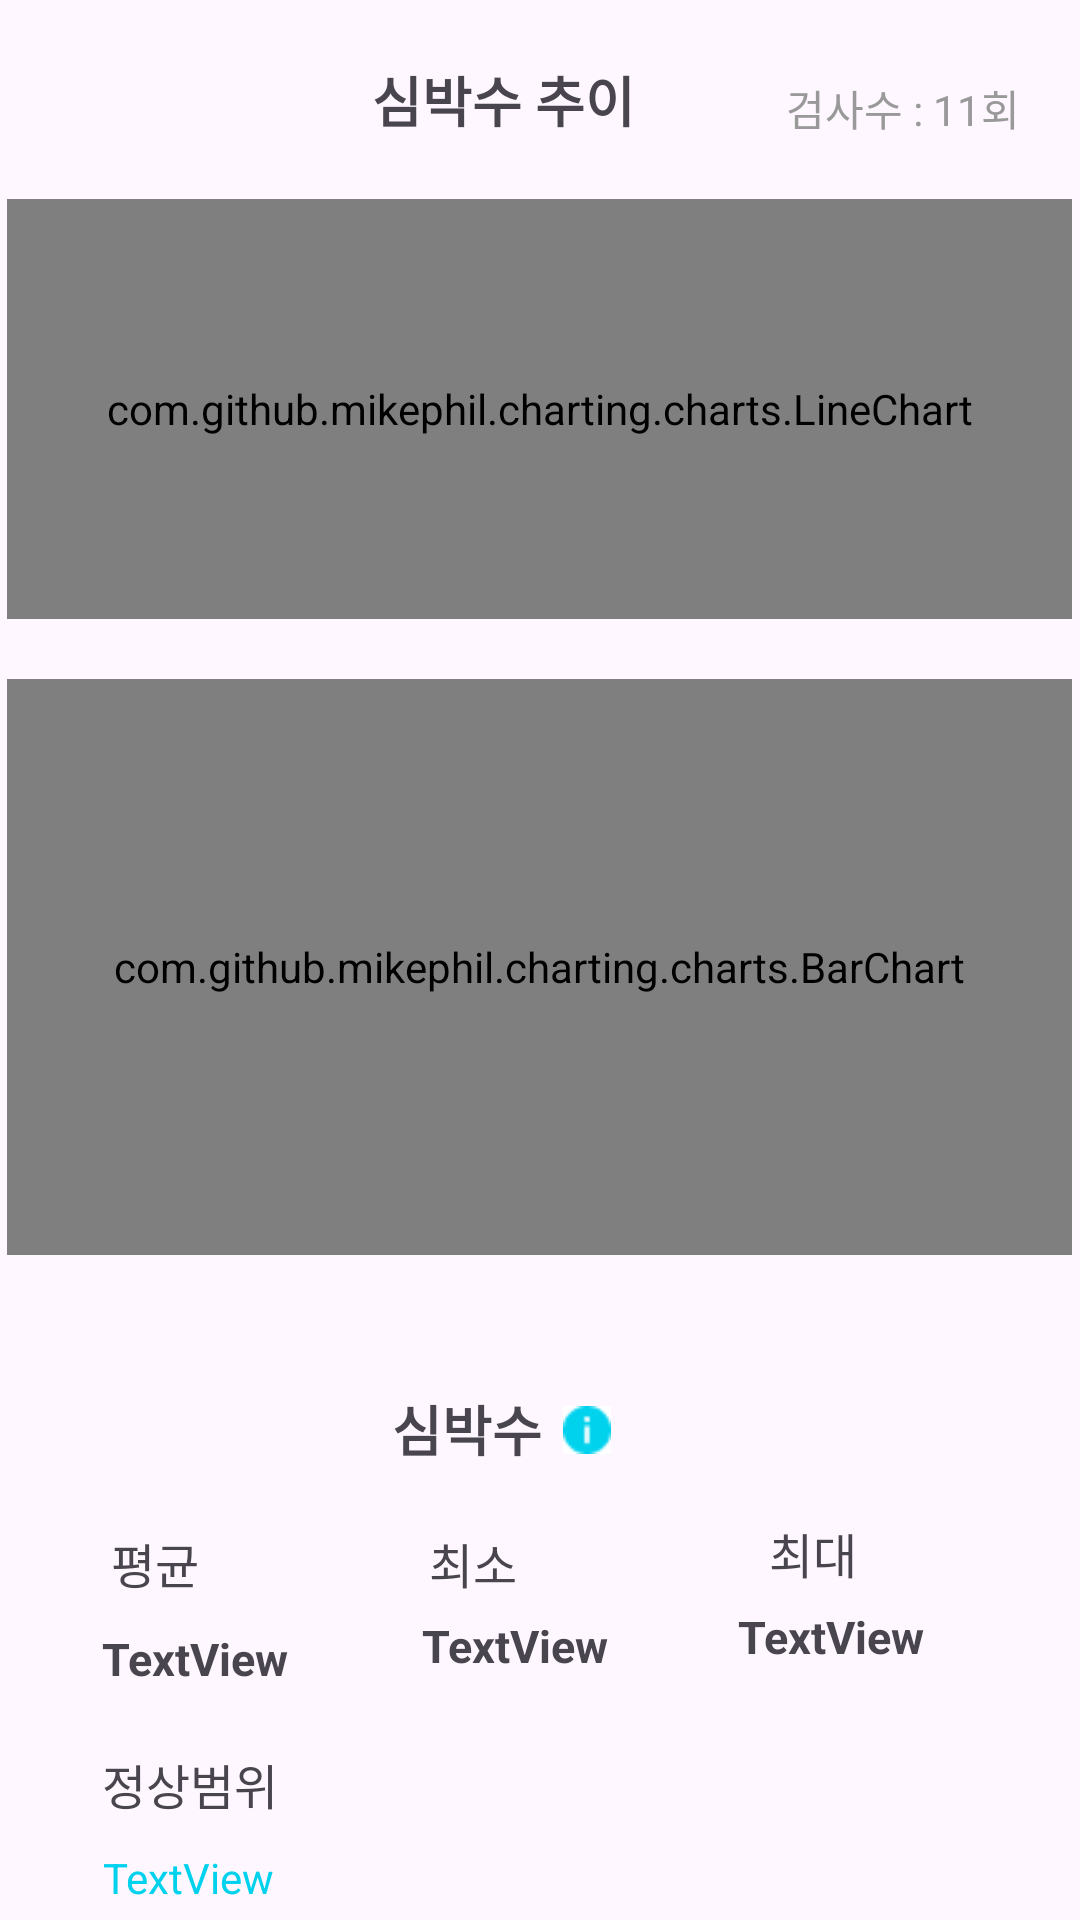

Icon click points for this 1080*1920 phone screenshot, format point (x, y):
info: point (587, 1430)
